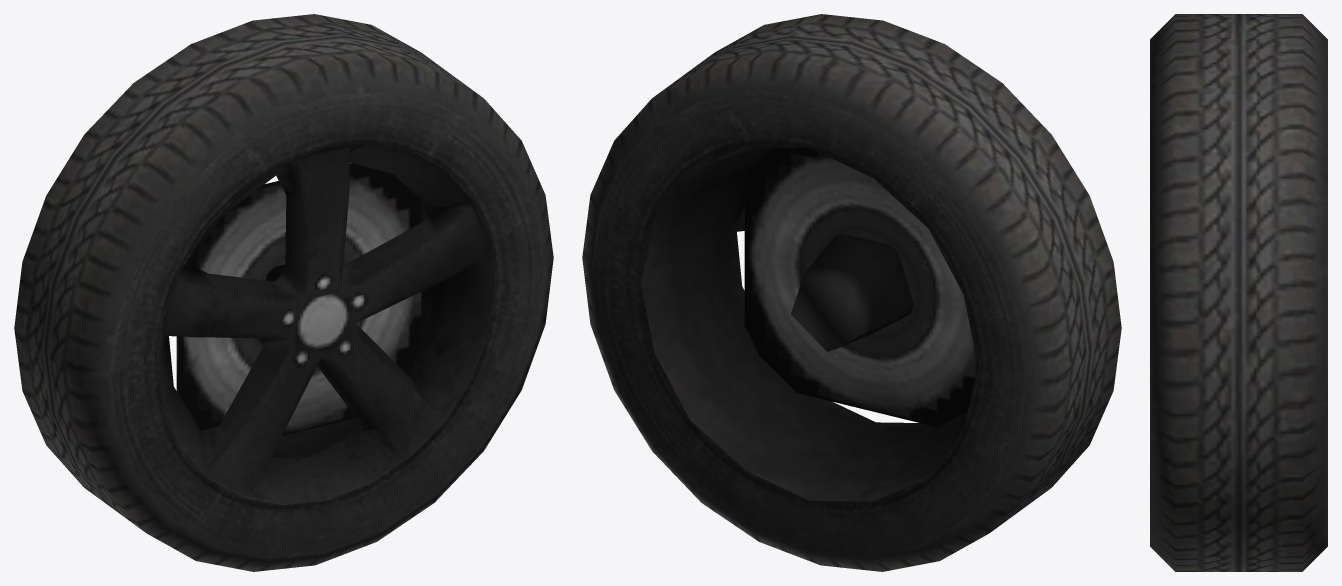
File: V_A_2DrCoupe_Wheels_13_SkeletalMesh3_PartMesh.psk.glb
3 renders of one model, left to right at view 1: azimuth 30°, elevation 25°; view 2: azimuth 150°, elevation 25°; view 3: azimuth 270°, elevation 25°, orthographic.
Size of the model in its own units: 68.85 by 68.85 by 21.84.
Materials: 1 (1 with a texture image).
